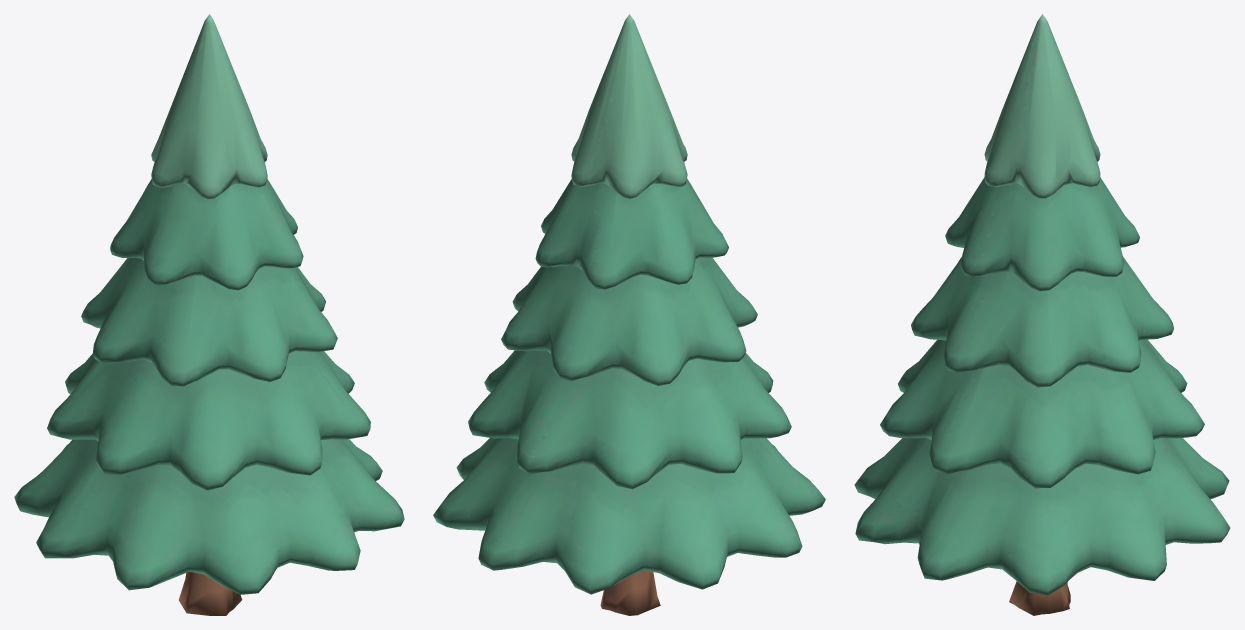
File: pine-tree.glb
The picture shows the model from 3 angles, left to right: view 1: azimuth 30°, elevation 25°; view 2: azimuth 150°, elevation 25°; view 3: azimuth 270°, elevation 25°; orthographic projection.
Visible parts, largest first — view 1: pine-tree_body; view 2: pine-tree_body; view 3: pine-tree_body.
Boxes of the visible parts, x1,y1,x2,y2 form: pine-tree_body: (14,14,404,615); pine-tree_body: (433,14,825,615); pine-tree_body: (854,14,1230,615).
Size of the model in its own units: 3.45 by 5.7 by 3.3.
Materials: 1 (1 with a texture image).
